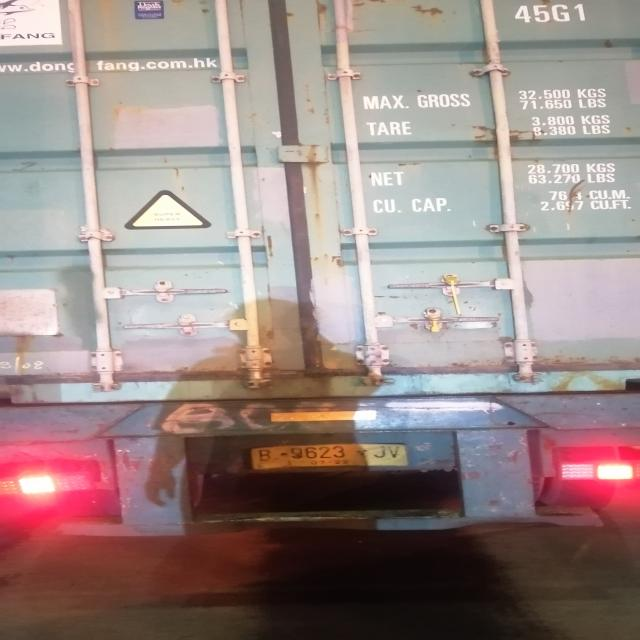seal: (442, 274, 470, 314), (427, 314, 444, 332)
